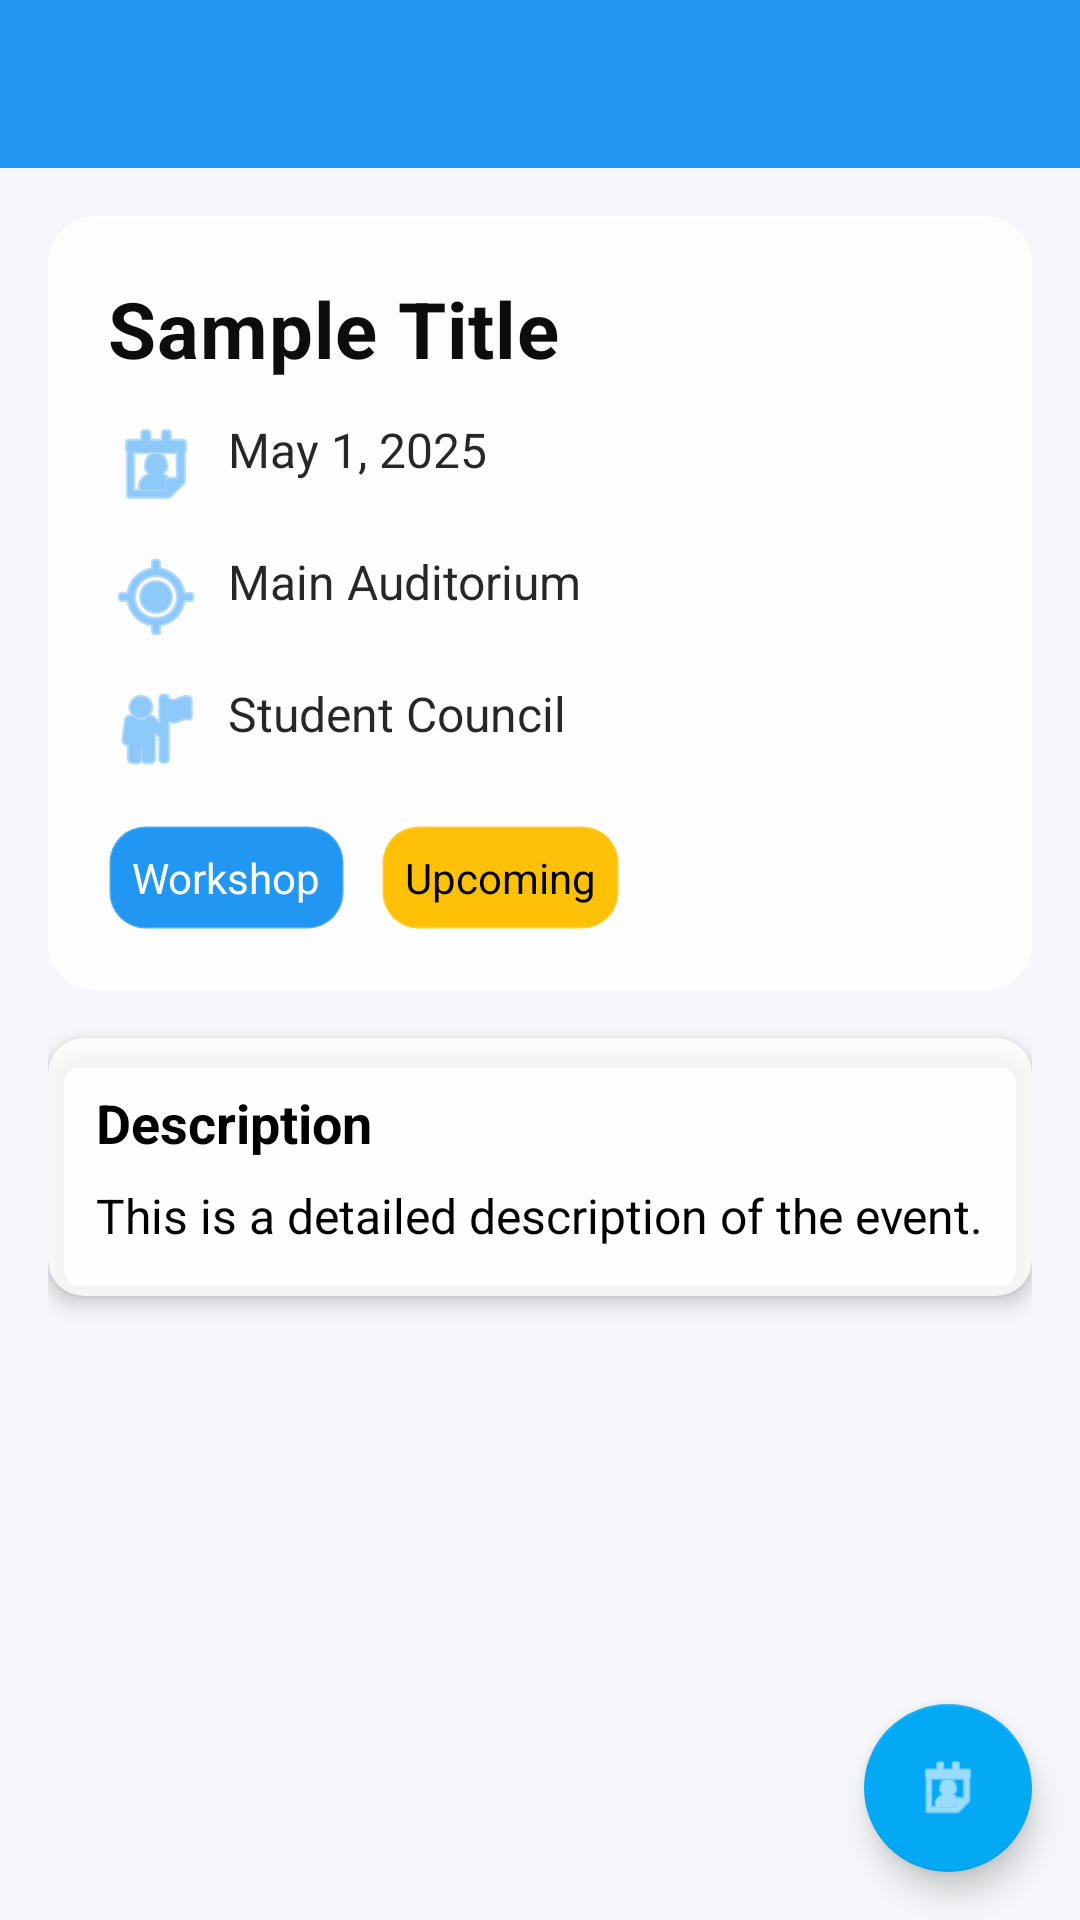

Named icons in this screenshot (1080px×1920px) and their centers, point (x, y):
Set reminder: point (948, 1788)
